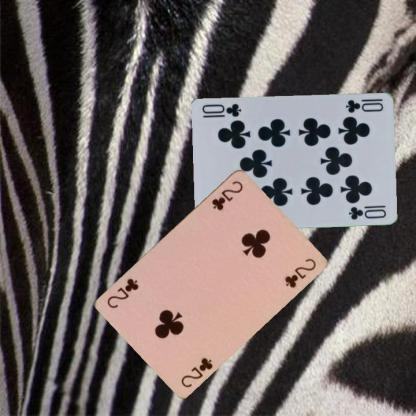10c: (343, 97, 385, 114)
2c: (178, 354, 214, 389), (209, 178, 244, 212)
